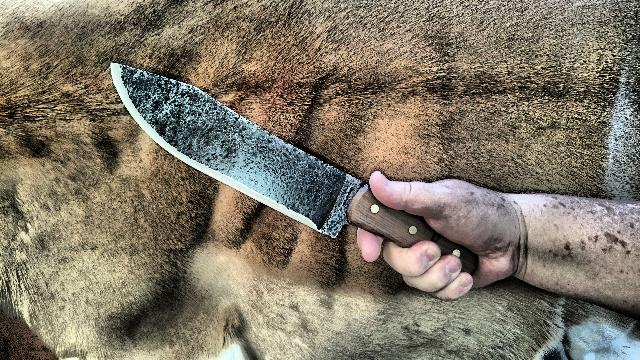knife: (102, 55, 488, 303)
